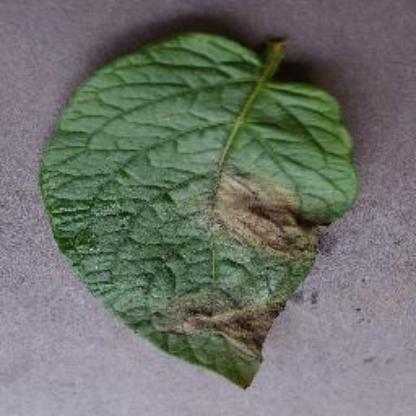Late-Blight: (29, 17, 382, 410)
